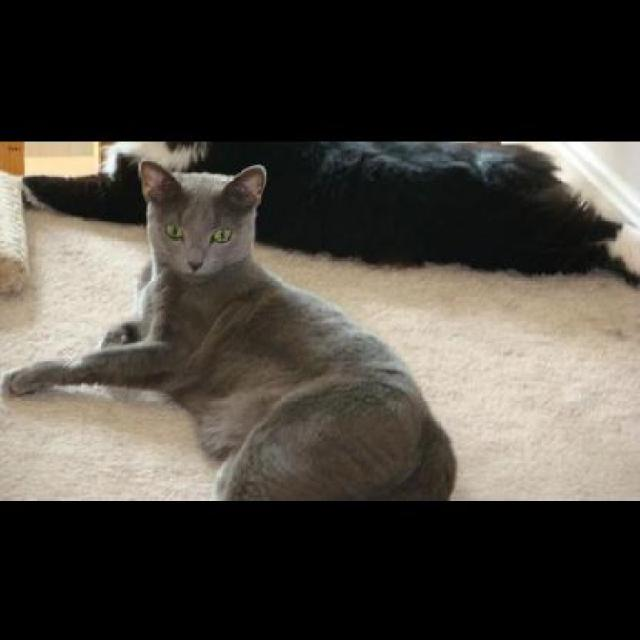unauthorized: (0, 157, 457, 500), (21, 138, 638, 292)
